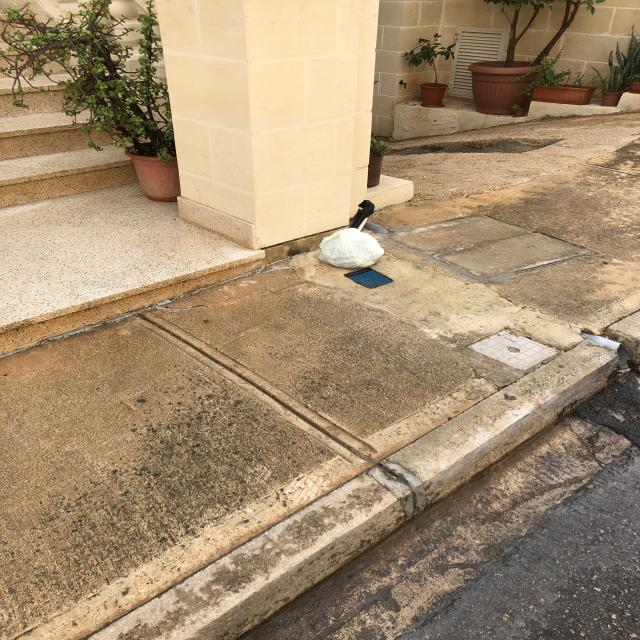Organic Waste -White Bag-: (316, 227, 390, 273)
